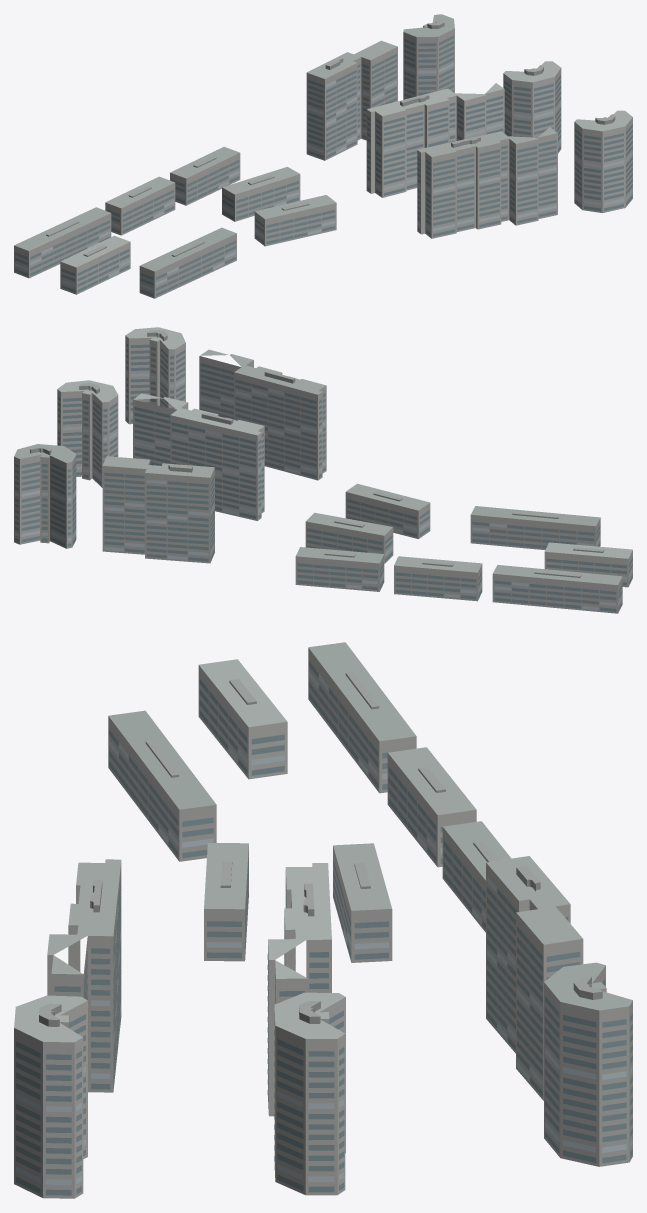
Rendered from apt-a13290105.glb.
3 renders of one model, top to bottom at view 1: azimuth 30°, elevation 25°; view 2: azimuth 150°, elevation 25°; view 3: azimuth 270°, elevation 25°, orthographic. The views are drawn at different scales.
Parts seen in each view (by area): view 1: apt-a13290105; view 2: apt-a13290105; view 3: apt-a13290105.
Part boxes in pixels (x1,y1,x2,y2): apt-a13290105: (14,14,632,298); apt-a13290105: (14,327,632,613); apt-a13290105: (14,642,632,1198).
Size of the model in its own units: 317 by 47.81 by 164.
